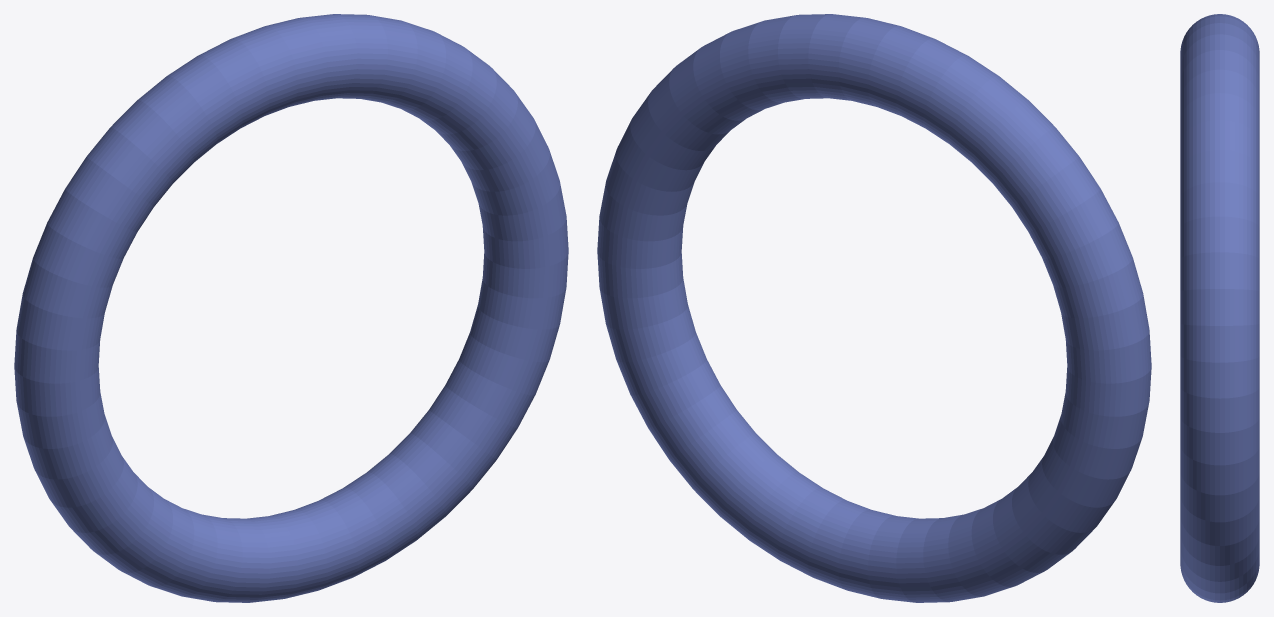
3 views of the same model, side by side, from view 1: azimuth 30°, elevation 25°; view 2: azimuth 150°, elevation 25°; view 3: azimuth 270°, elevation 25° (orthographic). The views are drawn at different scales.
Parts seen in each view (by area): view 1: world; view 2: world; view 3: world.
Part boxes in pixels (left/top/right/bottom): world: left=14, top=14, right=568, bottom=602; world: left=597, top=14, right=1151, bottom=602; world: left=1180, top=14, right=1259, bottom=602.
Size of the model in its own units: 20.8 by 20.76 by 2.79.
